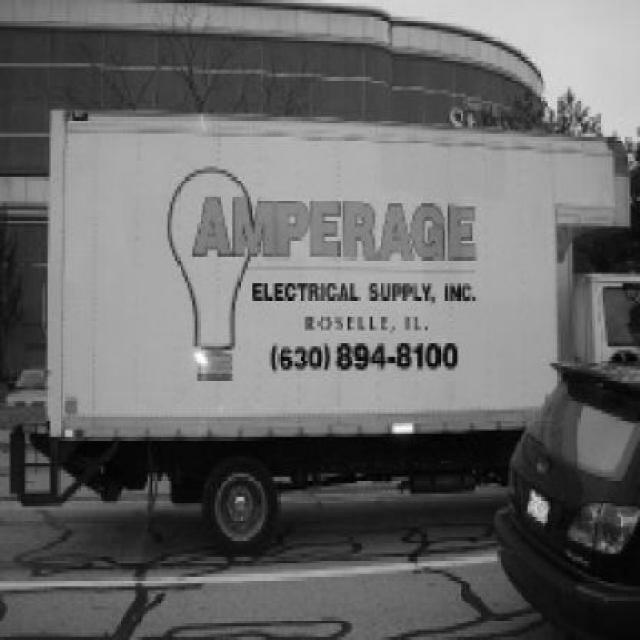Box Truck: (30, 110, 640, 551)
